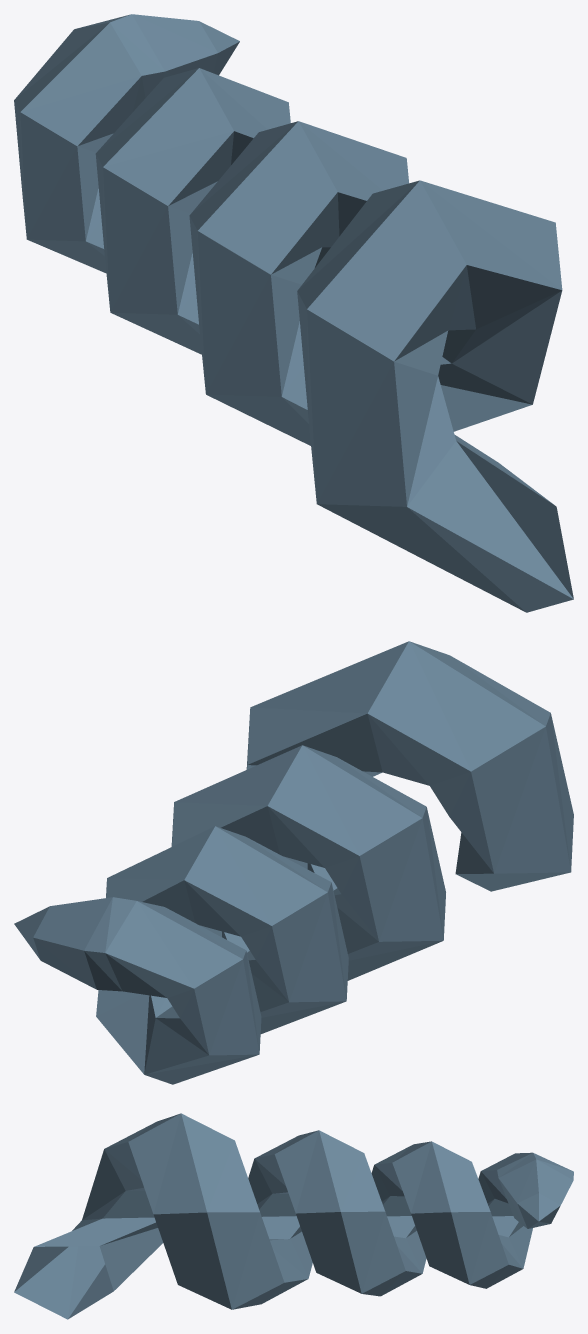
Rendered from BR_Burmy-Shiny05.obj.
3 renders of one model, top to bottom at view 1: azimuth 30°, elevation 25°; view 2: azimuth 150°, elevation 25°; view 3: azimuth 270°, elevation 25°, orthographic. The views are drawn at different scales.
Parts seen in each view (by area): view 1: minomucchi; view 2: minomucchi; view 3: minomucchi.
Part boxes in pixels (x1=…): minomucchi: x1=14, y1=14, x2=573, y2=612; minomucchi: x1=14, y1=641, x2=573, y2=1084; minomucchi: x1=14, y1=1113, x2=573, y2=1319.
Bounding box in the file's own units: 0.6107 × 0.6956 × 1.73.
1 material, 1 textured.
